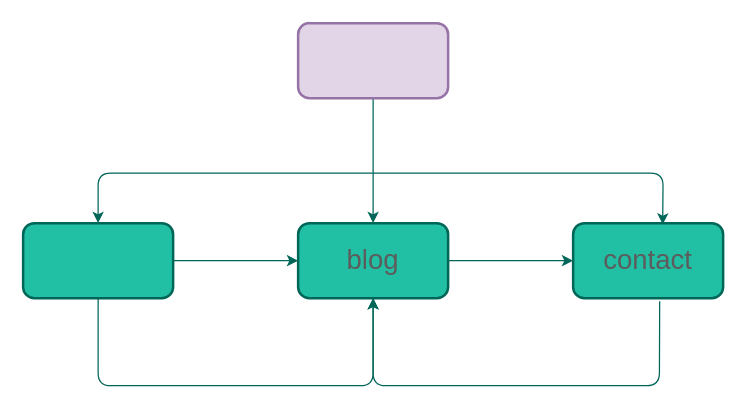
This 745x418 diagram has some shape labels left out. Here are the shapes that lost their labels. From the top down, the centre of each, then its label:
At point (372, 60): "home".
At point (97, 260): "about".
